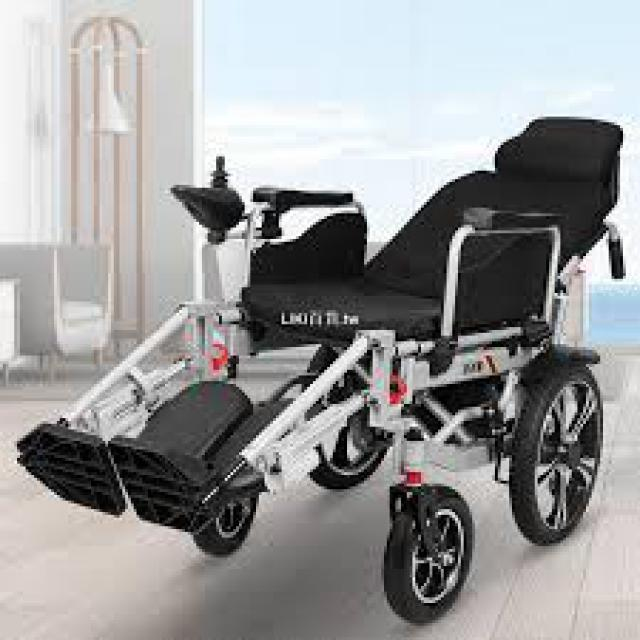wheelchair: (0, 96, 635, 638)
